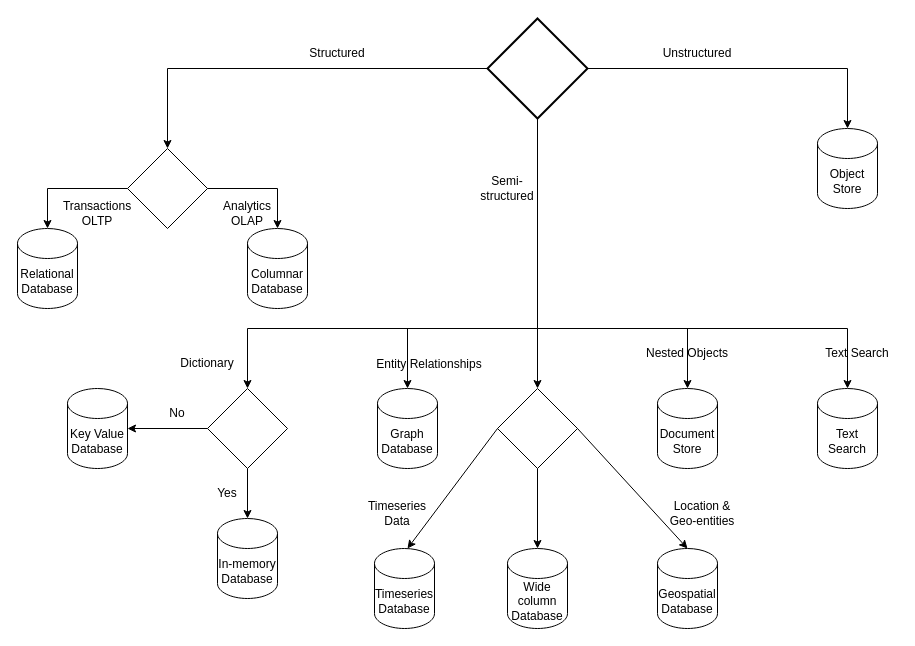
This 915x646 diagram has some shape labels left out. Each missing label, with the box of its shape:
2D key value: (496, 388, 578, 468)
Cache?: (206, 388, 288, 468)
Datatype?: (486, 17, 588, 119)
Usecase?: (126, 148, 208, 228)
